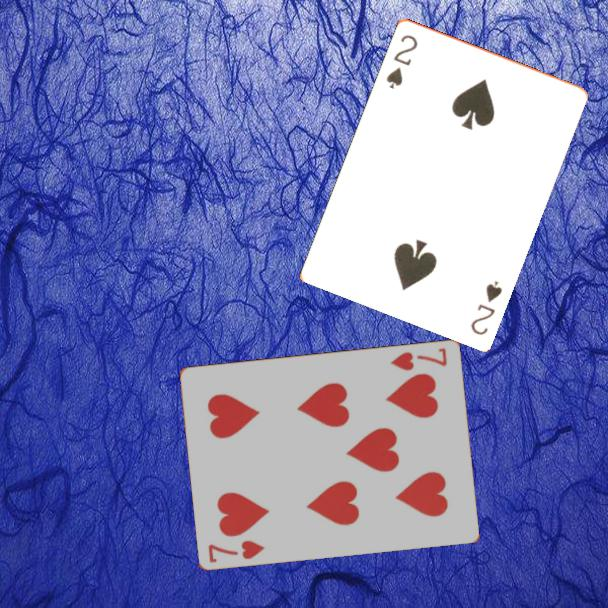h07: (387, 344, 450, 373), (205, 536, 268, 565)
s02: (467, 276, 505, 338), (382, 31, 420, 91)
